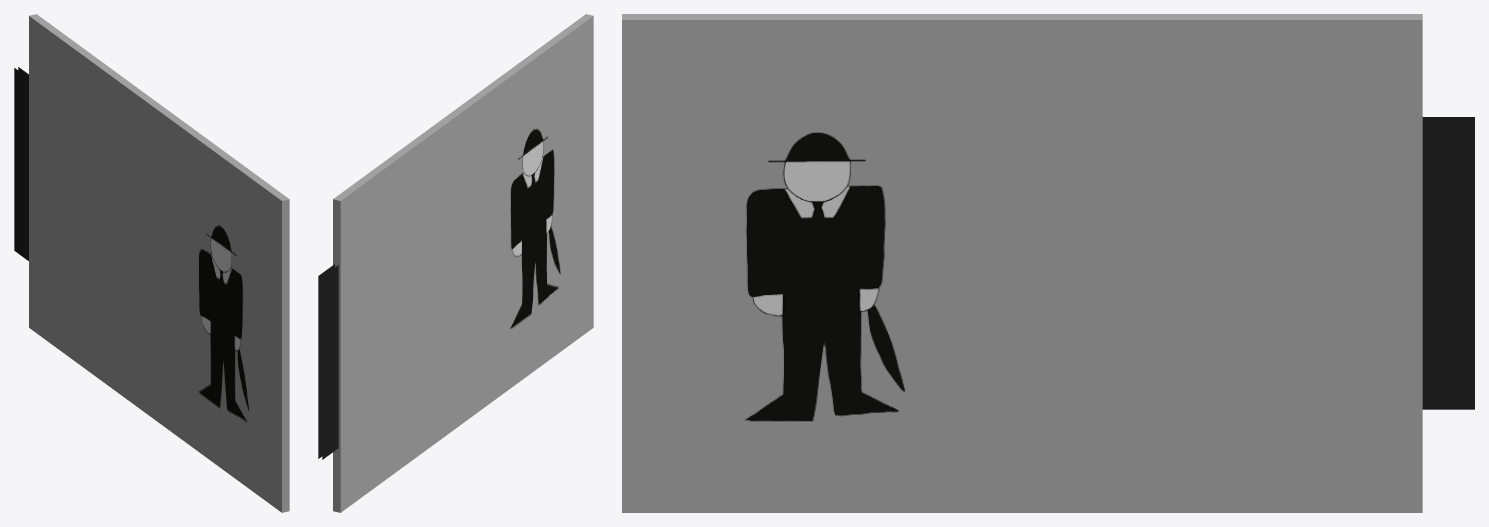
File: sign_Man.fbx
The picture shows the model from 3 angles, left to right: view 1: azimuth 30°, elevation 25°; view 2: azimuth 150°, elevation 25°; view 3: azimuth 270°, elevation 25°; orthographic projection. The views are drawn at different scales.
Visible parts, largest first — view 1: Cube; view 2: Cube; view 3: Cube.
Boxes of the visible parts, <box> form: Cube: <box>14,14,289,512</box>; Cube: <box>318,14,593,512</box>; Cube: <box>622,14,1474,512</box>.
Bounding box in the file's own units: 2.6 × 102 × 160.
2 materials, 2 textured.
